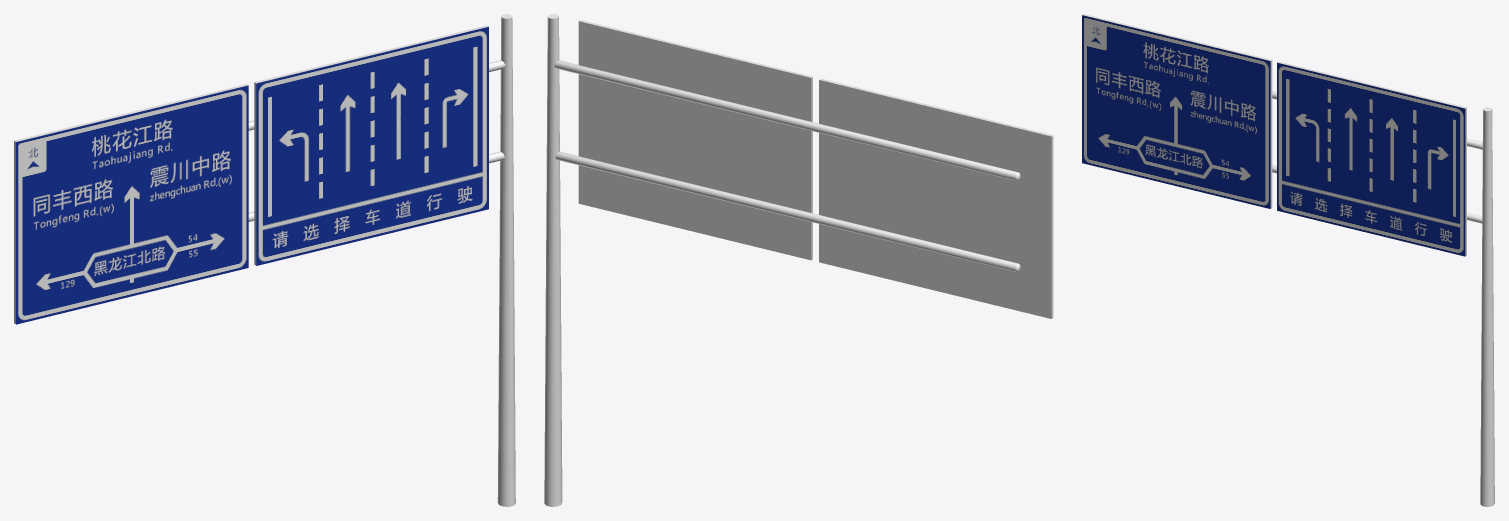
File: 道路指示杆.gltf
3 renders of one model, left to right at view 1: azimuth 30°, elevation 25°; view 2: azimuth 150°, elevation 25°; view 3: azimuth 330°, elevation 25°, orthographic. The views are drawn at different scales.
Parts seen in each view (by area): view 1: 平面 (×2), 圆柱, 立方体 (×2); view 2: 立方体 (×2), 圆柱, 圆柱.1, 圆柱.2; view 3: 平面 (×2), 圆柱, 立方体 (×2).
Boxes of the visible parts, x1=… form: 平面 (×2): x1=16, y1=27, x2=488, y2=324; 圆柱: x1=497, y1=14, x2=515, y2=506; 立方体 (×2): x1=14, y1=25, x2=488, y2=324; 立方体 (×2): x1=578, y1=20, x2=1053, y2=318; 圆柱: x1=544, y1=14, x2=562, y2=506; 圆柱.1: x1=554, y1=60, x2=1020, y2=180; 圆柱.2: x1=555, y1=151, x2=1020, y2=271; 平面 (×2): x1=1082, y1=15, x2=1465, y2=256; 圆柱: x1=1480, y1=107, x2=1494, y2=506; 立方体 (×2): x1=1082, y1=14, x2=1466, y2=256.
Size of the model in its own units: 1298 by 1200 by 41.45.
Materials: 4 (2 with a texture image).
